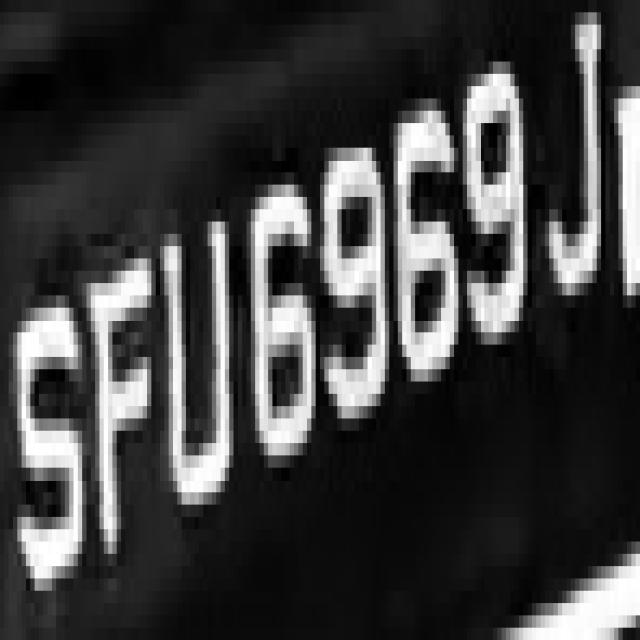6: (376, 62, 463, 443), (238, 172, 324, 492)
9: (307, 123, 394, 443), (454, 49, 528, 394)
F: (78, 234, 160, 578)
J: (540, 37, 610, 332)
S: (18, 259, 86, 603)
U: (156, 197, 233, 554)
